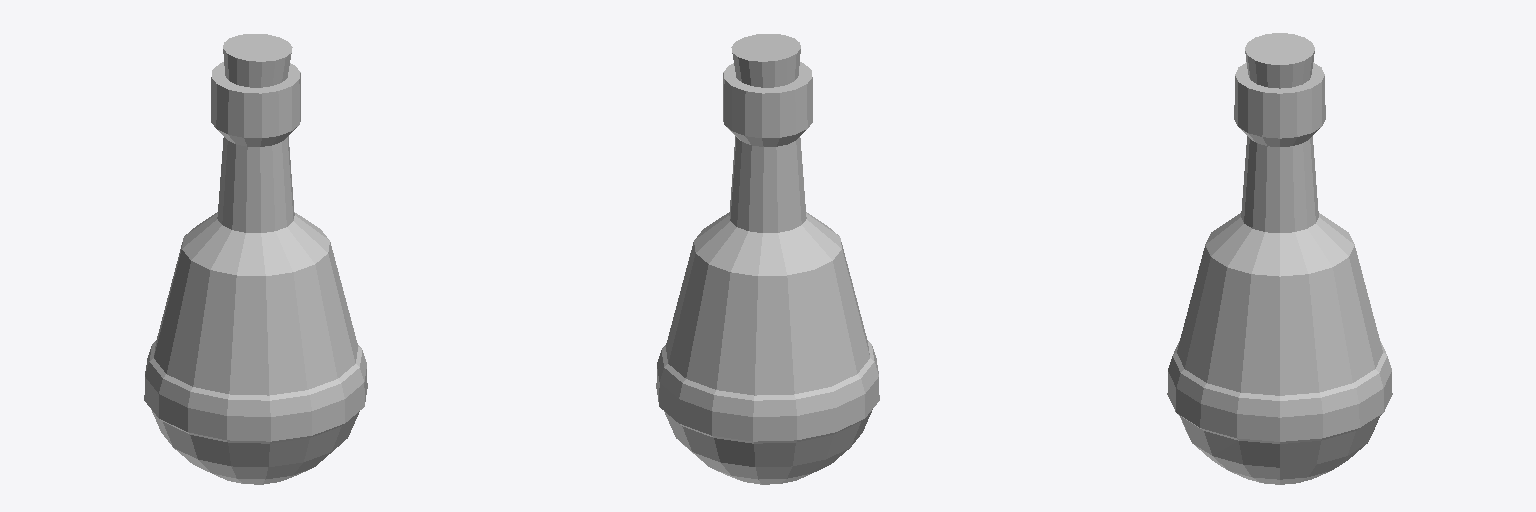
File: Potion_2.obj
The picture shows the model from 3 angles: view 1: azimuth 30°, elevation 25°; view 2: azimuth 150°, elevation 25°; view 3: azimuth 270°, elevation 25°; orthographic projection.
Parts seen in each view (by area): view 1: Potion_2_Cylinder.045; view 2: Potion_2_Cylinder.045; view 3: Potion_2_Cylinder.045.
Part boxes in pixels (left/top/right/bottom): Potion_2_Cylinder.045: left=144, top=34, right=367, bottom=484; Potion_2_Cylinder.045: left=656, top=34, right=879, bottom=484; Potion_2_Cylinder.045: left=1167, top=33, right=1392, bottom=484.
Size of the model in its own units: 0.1274 by 0.2615 by 0.1274.